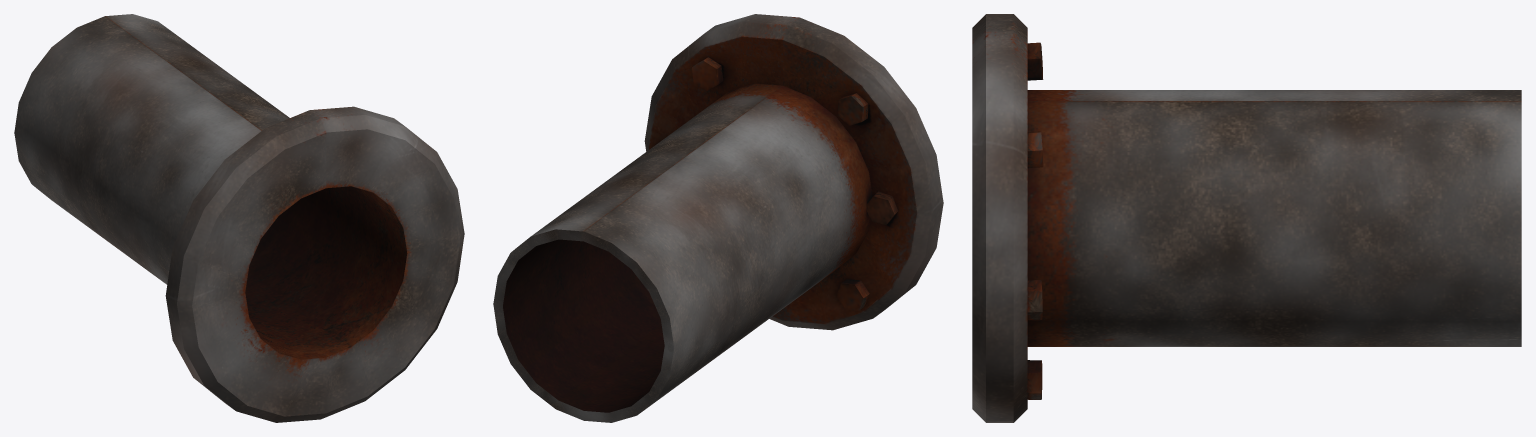
The model's file is metalpipecut.fbx.
3 views of the same model, side by side, from view 1: azimuth 30°, elevation 25°; view 2: azimuth 150°, elevation 25°; view 3: azimuth 270°, elevation 25° (orthographic). The views are drawn at different scales.
Parts seen in each view (by area): view 1: metalpipe-cut; view 2: metalpipe-cut; view 3: metalpipe-cut.
Boxes of the visible parts, left/top/right/bottom form: metalpipe-cut: left=14, top=14, right=464, bottom=422; metalpipe-cut: left=493, top=14, right=943, bottom=422; metalpipe-cut: left=972, top=14, right=1521, bottom=422.
Bounding box in the file's own units: 1.5 × 1.5 × 2.
